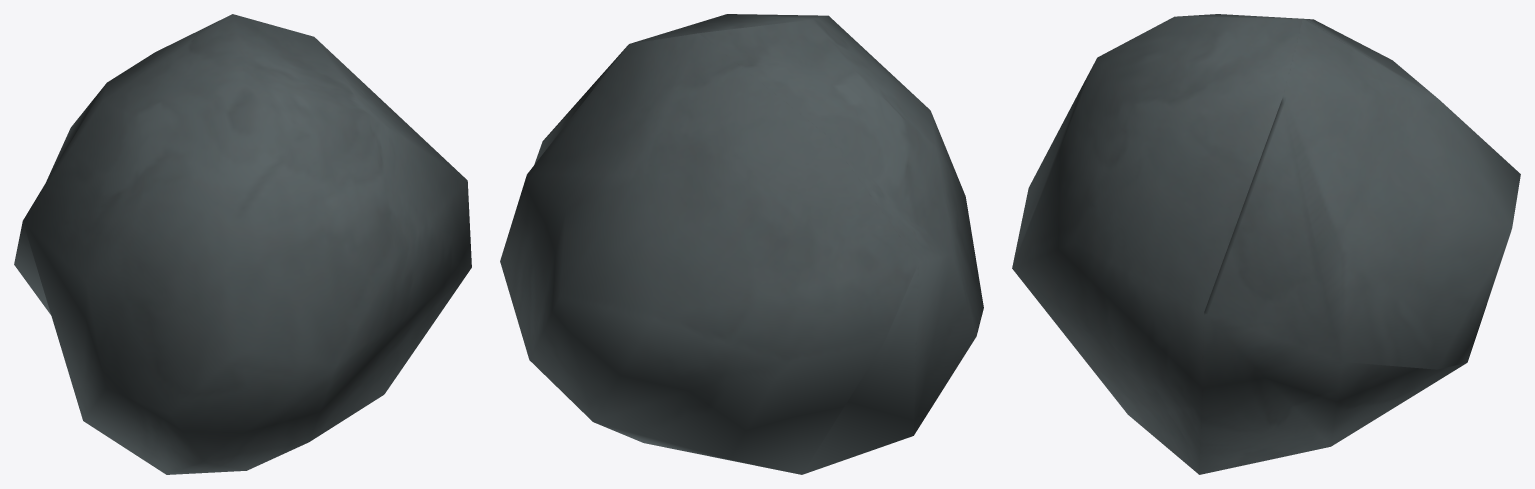
File: rockMedium.fbx
3 renders of one model, left to right at view 1: azimuth 30°, elevation 25°; view 2: azimuth 150°, elevation 25°; view 3: azimuth 270°, elevation 25°, orthographic. The views are drawn at different scales.
Parts seen in each view (by area): view 1: Cube.001; view 2: Cube.001; view 3: Cube.001.
Boxes of the visible parts, x1=… form: Cube.001: x1=14, y1=14, x2=471, y2=474; Cube.001: x1=500, y1=14, x2=983, y2=474; Cube.001: x1=1012, y1=14, x2=1520, y2=474.
Bounding box in the file's own units: 276 × 258 × 282.
